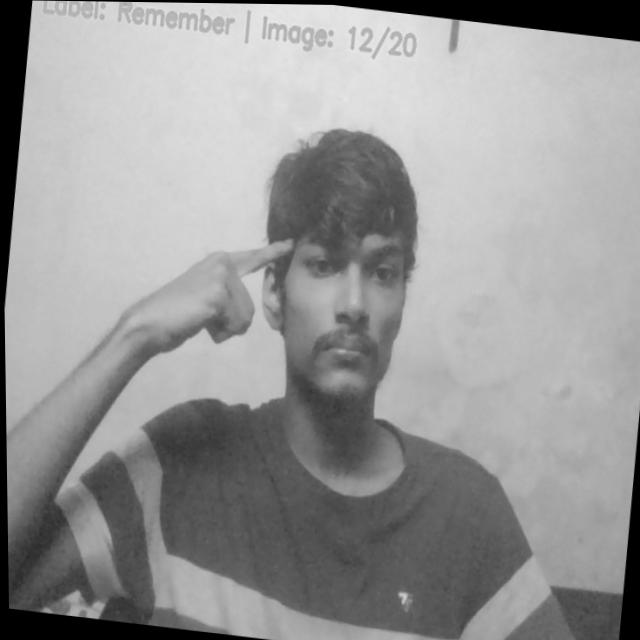Remember: (125, 212, 296, 371)
